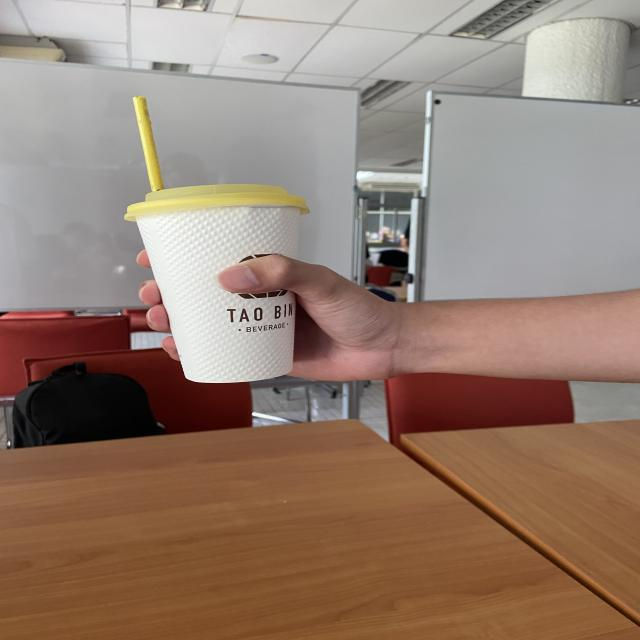cup: (124, 182, 312, 384)
